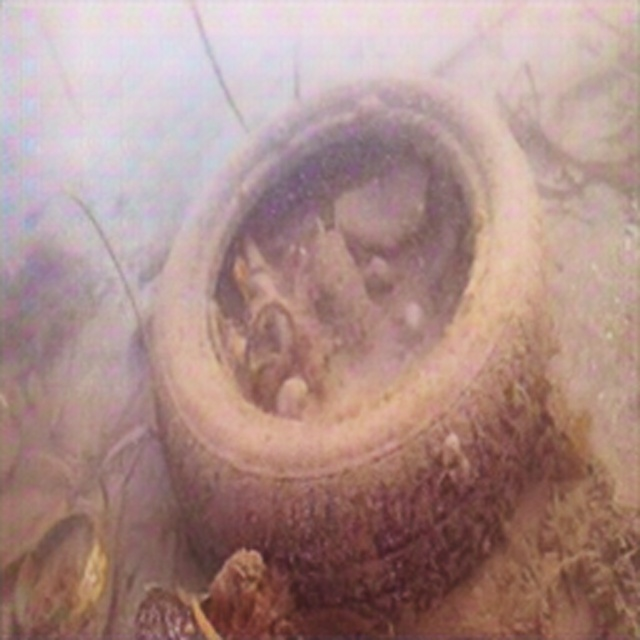mine: (147, 66, 550, 639)
